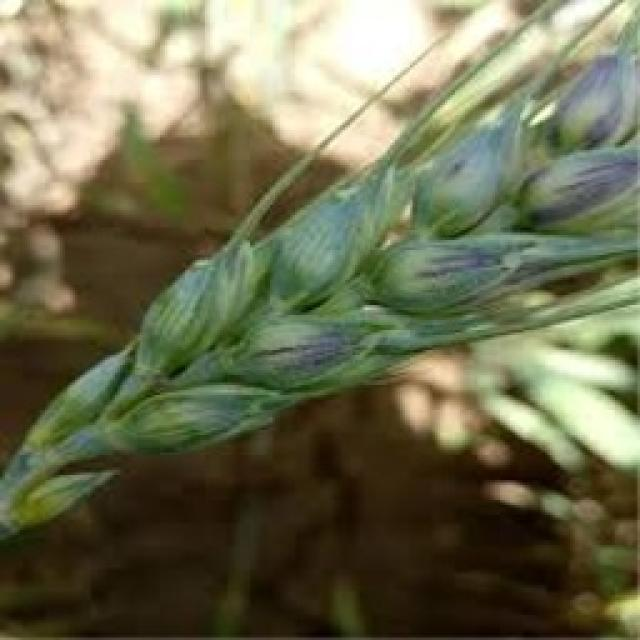Yellow Rust: (0, 0, 638, 635)
